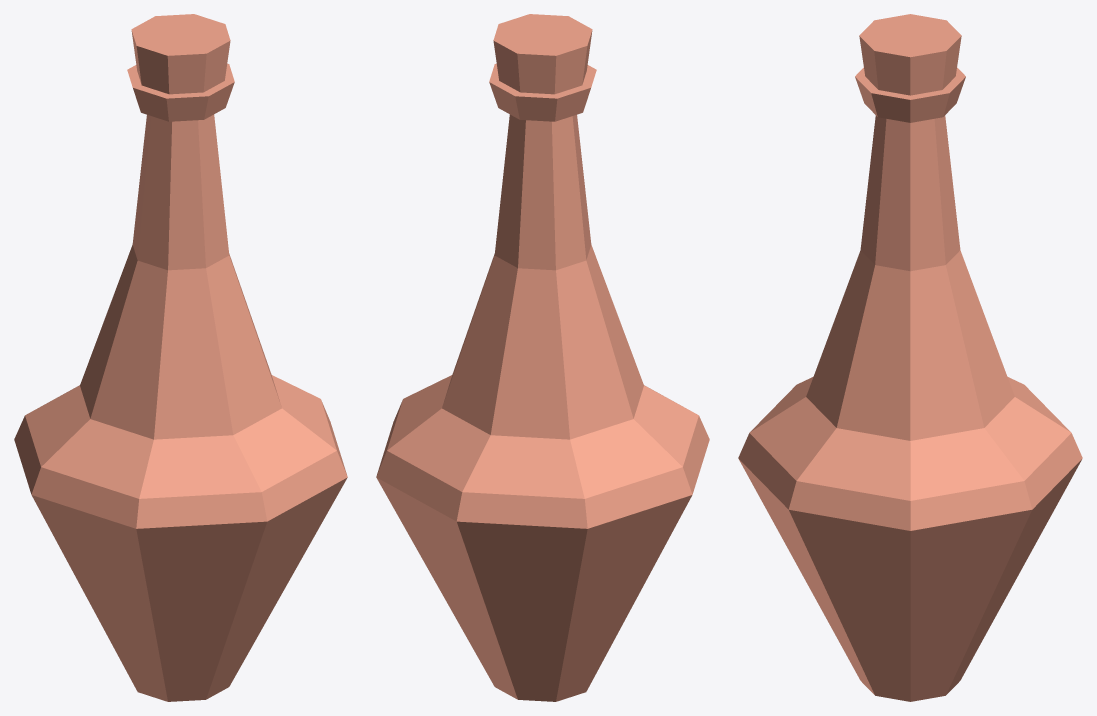
The model's file is Potion.fbx.
3 renders of one model, left to right at view 1: azimuth 30°, elevation 25°; view 2: azimuth 150°, elevation 25°; view 3: azimuth 270°, elevation 25°, orthographic.
Parts seen in each view (by area): view 1: Potion; view 2: Potion; view 3: Potion.
Boxes of the visible parts, x1,y1,x2,y2 form: Potion: [14, 14, 347, 701]; Potion: [376, 14, 709, 701]; Potion: [738, 14, 1082, 701].
Bounding box in the file's own units: 21.38 × 44.16 × 21.38.
